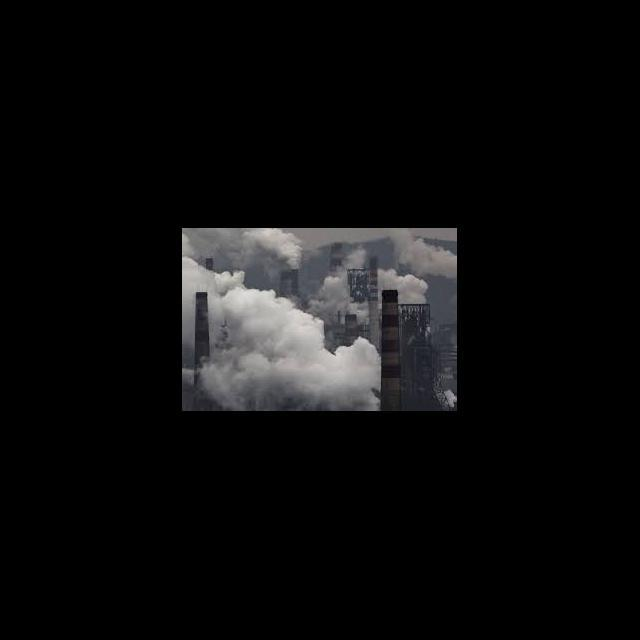Smoke: (182, 229, 380, 412)
